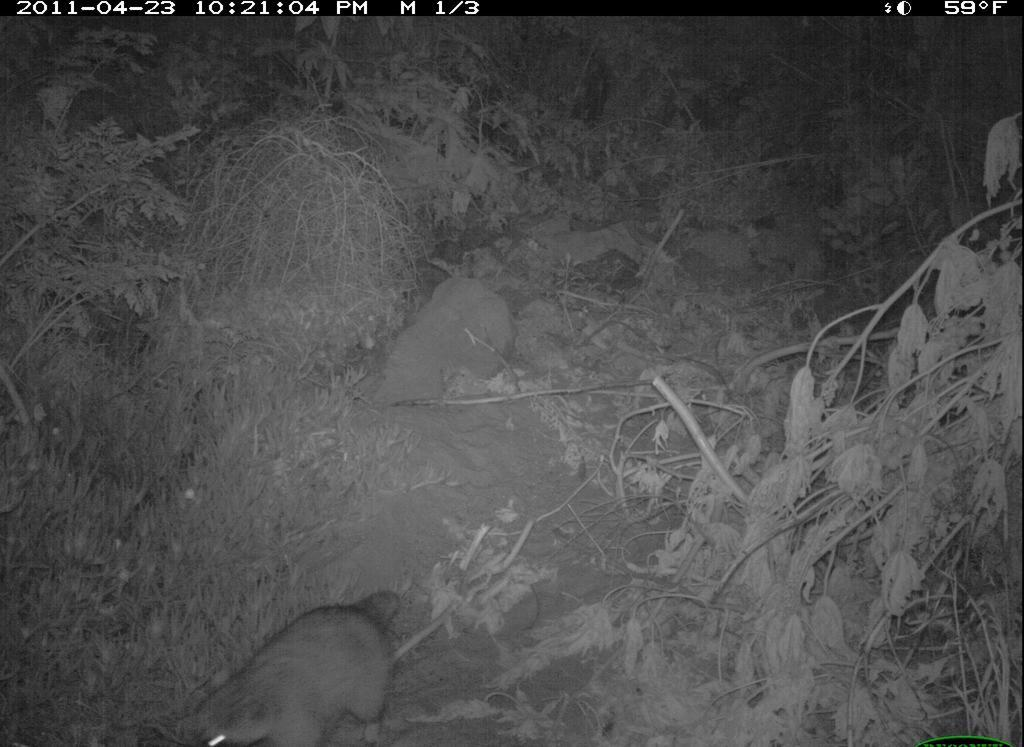raccoon: (186, 597, 414, 747)
